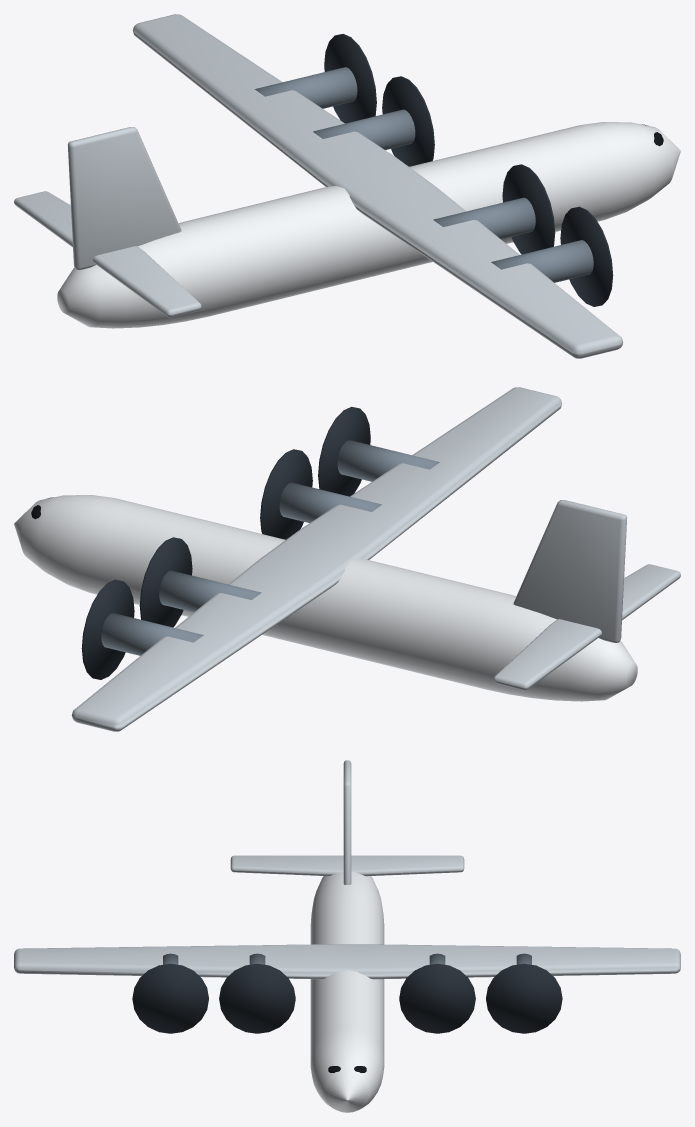
Rendered from tprop_civ.glb.
3 renders of one model, top to bottom at view 1: azimuth 30°, elevation 25°; view 2: azimuth 150°, elevation 25°; view 3: azimuth 270°, elevation 25°, orthographic. The views are drawn at different scales.
Visible parts, largest first — view 1: fus, wing, fin, stab, prop110.6, prop-15.4, prop15.4, prop-110.6, nac110.6, nac-110.6, nac15.4, nac-15.4; view 2: fus, wing, fin, stab, prop-110.6, prop15.4, prop-15.4, prop110.6, nac-110.6, nac110.6, nac-15.4, nac15.4; view 3: wing, fus, stab, prop15.4, prop-15.4, prop110.6, prop-110.6, fin.
Boxes of the visible parts, box(x1,y1,x2,y2) form: fus: box(57, 122, 680, 328); wing: box(132, 14, 623, 358); fin: box(68, 127, 181, 269); stab: box(14, 191, 201, 317); prop110.6: box(560, 206, 613, 306); prop-15.4: box(382, 76, 434, 166); prop15.4: box(502, 164, 555, 254); prop-110.6: box(324, 34, 376, 123); nac110.6: box(491, 240, 593, 282); nac-110.6: box(255, 67, 357, 108); nac15.4: box(433, 197, 535, 239); nac-15.4: box(313, 109, 415, 149); fus: box(14, 495, 637, 701); wing: box(71, 387, 562, 731); fin: box(513, 500, 626, 642); stab: box(493, 564, 680, 690); prop-110.6: box(81, 579, 134, 679); prop15.4: box(260, 449, 312, 539); prop-15.4: box(139, 537, 192, 627); prop110.6: box(318, 407, 370, 496); nac-110.6: box(101, 613, 203, 655); nac110.6: box(337, 440, 439, 481); nac-15.4: box(159, 570, 261, 612); nac15.4: box(279, 482, 381, 522); wing: box(14, 944, 680, 979); fus: box(310, 871, 384, 1112); stab: box(230, 855, 464, 876); prop15.4: box(219, 963, 295, 1033); prop-15.4: box(399, 963, 475, 1033); prop110.6: box(132, 963, 208, 1033); prop-110.6: box(486, 963, 562, 1033); fin: box(343, 760, 351, 884).
Bounding box in the file's own units: 32 × 10 × 40.
